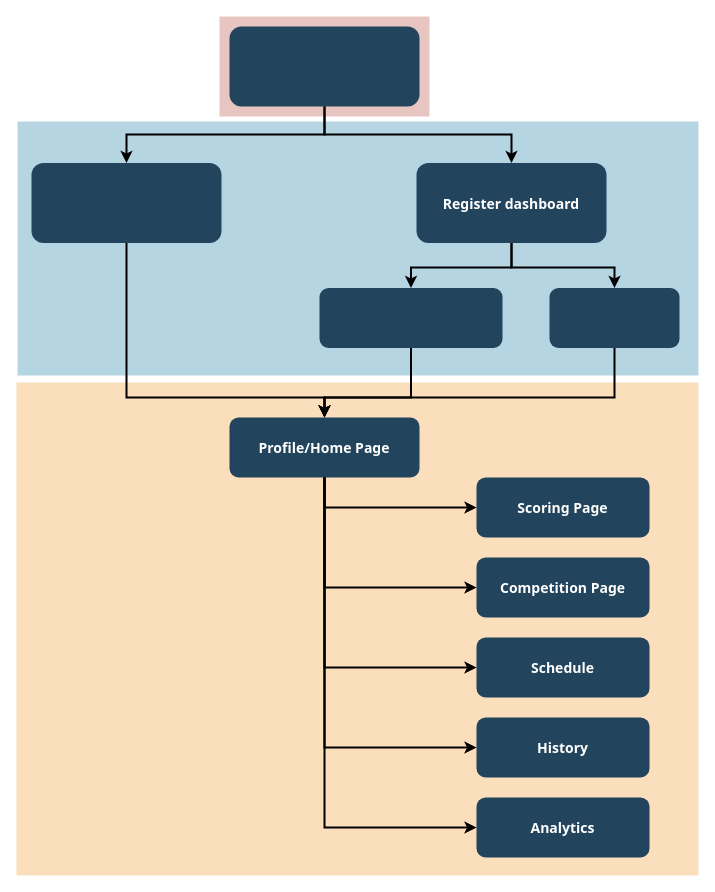
This 715x892 diagram has some shape labels left out. The centre of each missing label's shape, as x and y in pixels:
Landing Page: the point at 324,66
Login Page: the point at 126,202
Register Club: the point at 614,318
Register Individual: the point at 410,318
